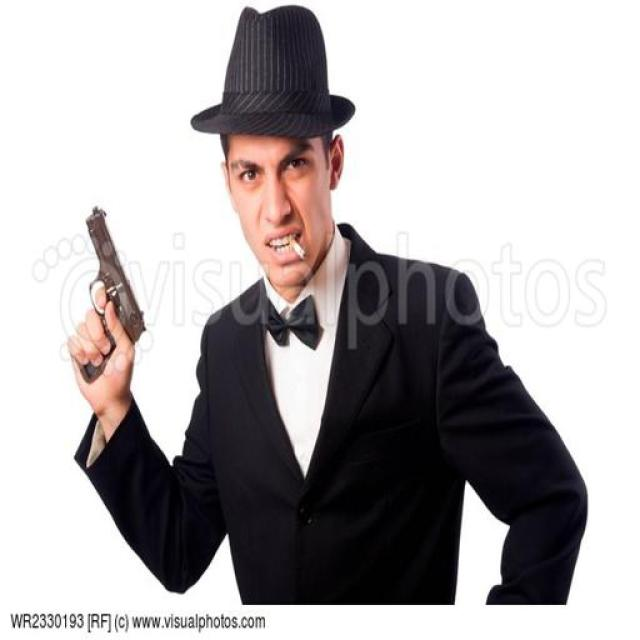pistol: (63, 206, 148, 385)
